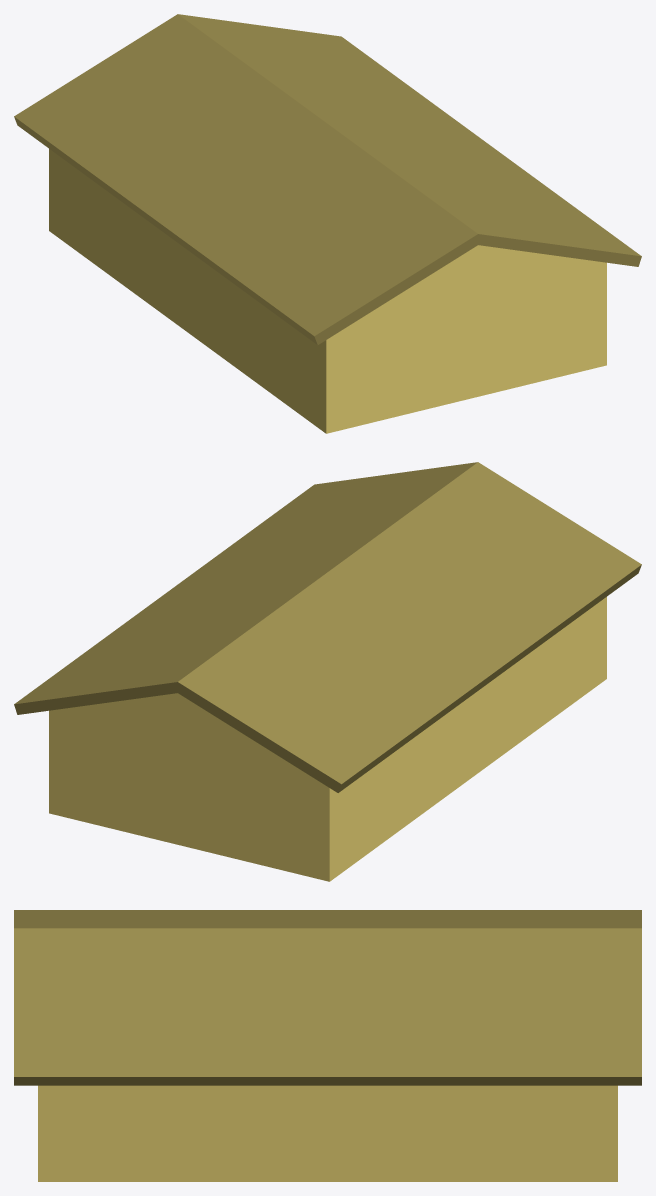
File: result.glb
3 renders of one model, top to bottom at view 1: azimuth 30°, elevation 25°; view 2: azimuth 150°, elevation 25°; view 3: azimuth 270°, elevation 25°, orthographic. The views are drawn at different scales.
Parts seen in each view (by area): view 1: fc7caea9-76f2-4a08-8c25-061fe86a955e__undefined (×2), f71b3c04-94ac-40a5-9ebc-3b0de4bc5462__undefined; view 2: fc7caea9-76f2-4a08-8c25-061fe86a955e__undefined (×2), f71b3c04-94ac-40a5-9ebc-3b0de4bc5462__undefined; view 3: fc7caea9-76f2-4a08-8c25-061fe86a955e__undefined (×2), f71b3c04-94ac-40a5-9ebc-3b0de4bc5462__undefined.
Part boxes in pixels (box(x1,y1,x2,y2)): fc7caea9-76f2-4a08-8c25-061fe86a955e__undefined (×2): box(14, 14, 641, 344); f71b3c04-94ac-40a5-9ebc-3b0de4bc5462__undefined: box(49, 149, 606, 433); fc7caea9-76f2-4a08-8c25-061fe86a955e__undefined (×2): box(14, 462, 641, 792); f71b3c04-94ac-40a5-9ebc-3b0de4bc5462__undefined: box(49, 597, 606, 881); fc7caea9-76f2-4a08-8c25-061fe86a955e__undefined (×2): box(14, 910, 641, 1085); f71b3c04-94ac-40a5-9ebc-3b0de4bc5462__undefined: box(38, 1085, 617, 1181).
Size of the model in its own units: 819 by 416 by 1301.
